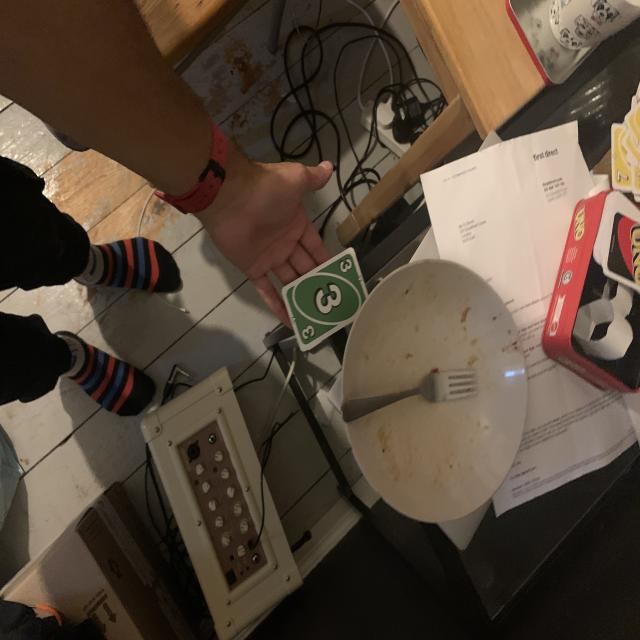lgreen-3: (336, 256, 356, 278)
